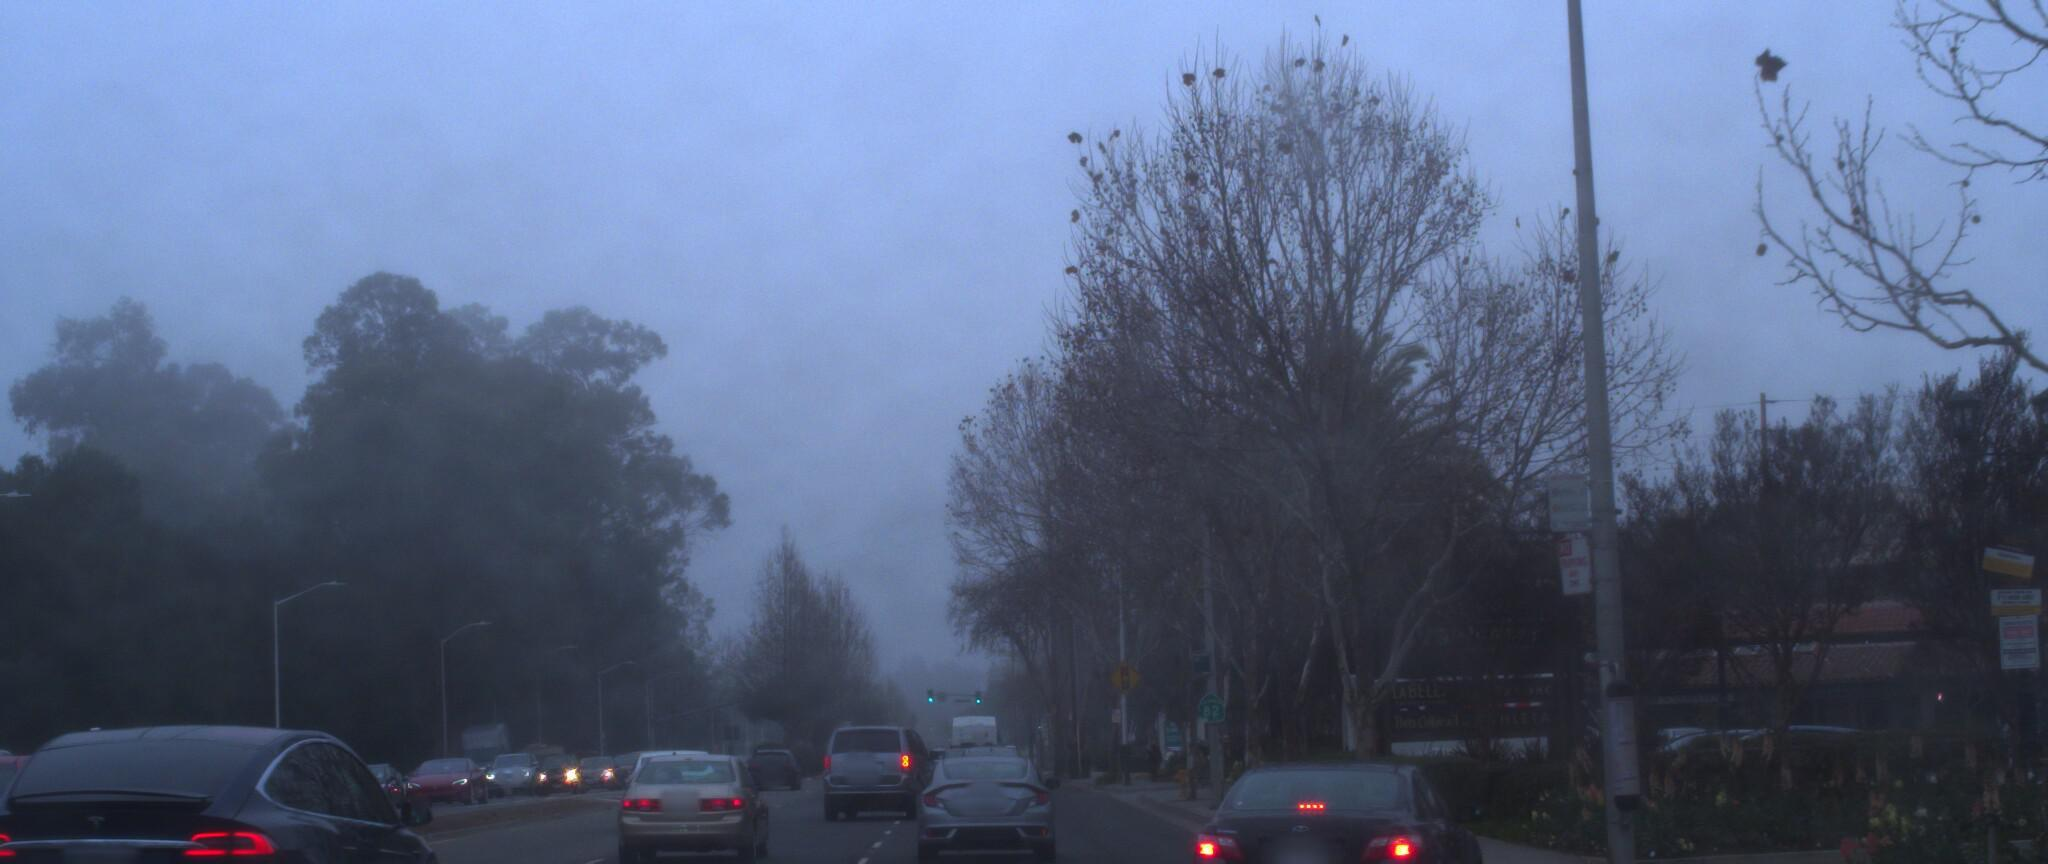car: (0, 706, 472, 864), (1155, 739, 1523, 864), (603, 720, 780, 864), (904, 737, 1064, 864), (0, 740, 121, 864), (814, 717, 939, 814)
truck: (1327, 646, 1639, 782)
